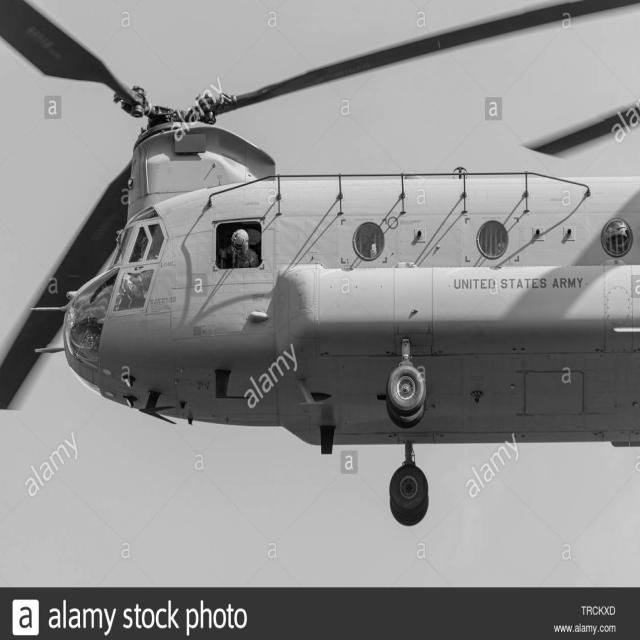helicopter: (1, 1, 640, 527)
